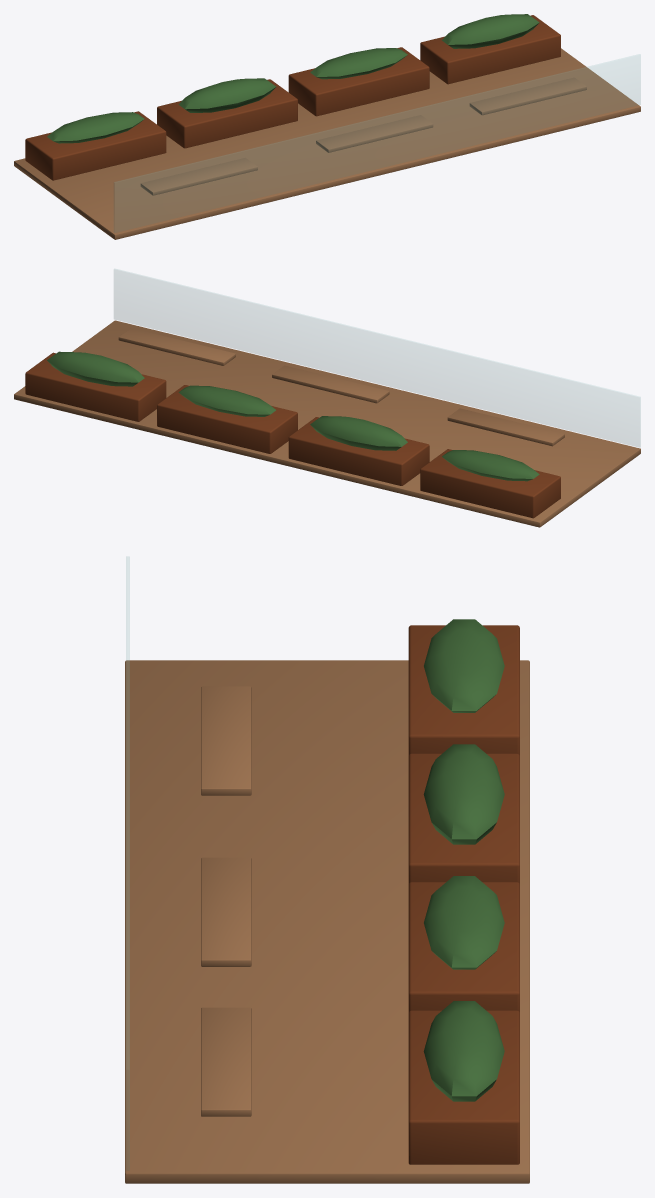
Rendered from sc-ext-roof-garden.glb.
3 renders of one model, top to bottom at view 1: azimuth 30°, elevation 25°; view 2: azimuth 150°, elevation 25°; view 3: azimuth 270°, elevation 25°, orthographic. The views are drawn at different scales.
Parts seen in each view (by area): view 1: sc-ext-roof-garden; view 2: sc-ext-roof-garden; view 3: sc-ext-roof-garden.
Part boxes in pixels (<box>): sc-ext-roof-garden: <box>14,14,640,239</box>; sc-ext-roof-garden: <box>14,269,640,527</box>; sc-ext-roof-garden: <box>125,557,529,1183</box>.
Size of the model in its own units: 12 by 1.25 by 4.
